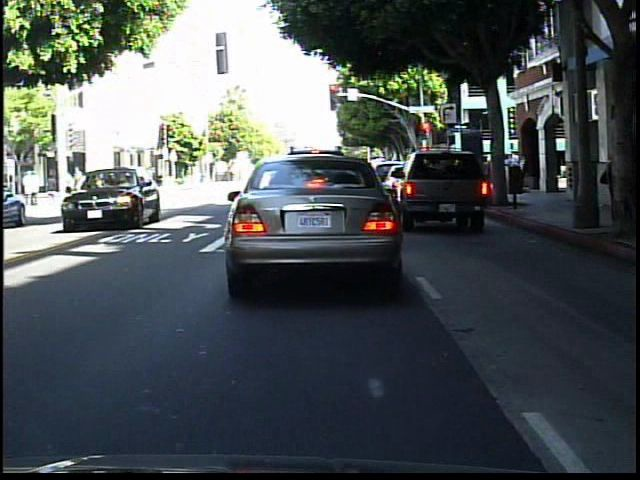person: (590, 141, 612, 217), (618, 141, 639, 219), (71, 162, 88, 196), (48, 168, 62, 206), (69, 171, 74, 199)
